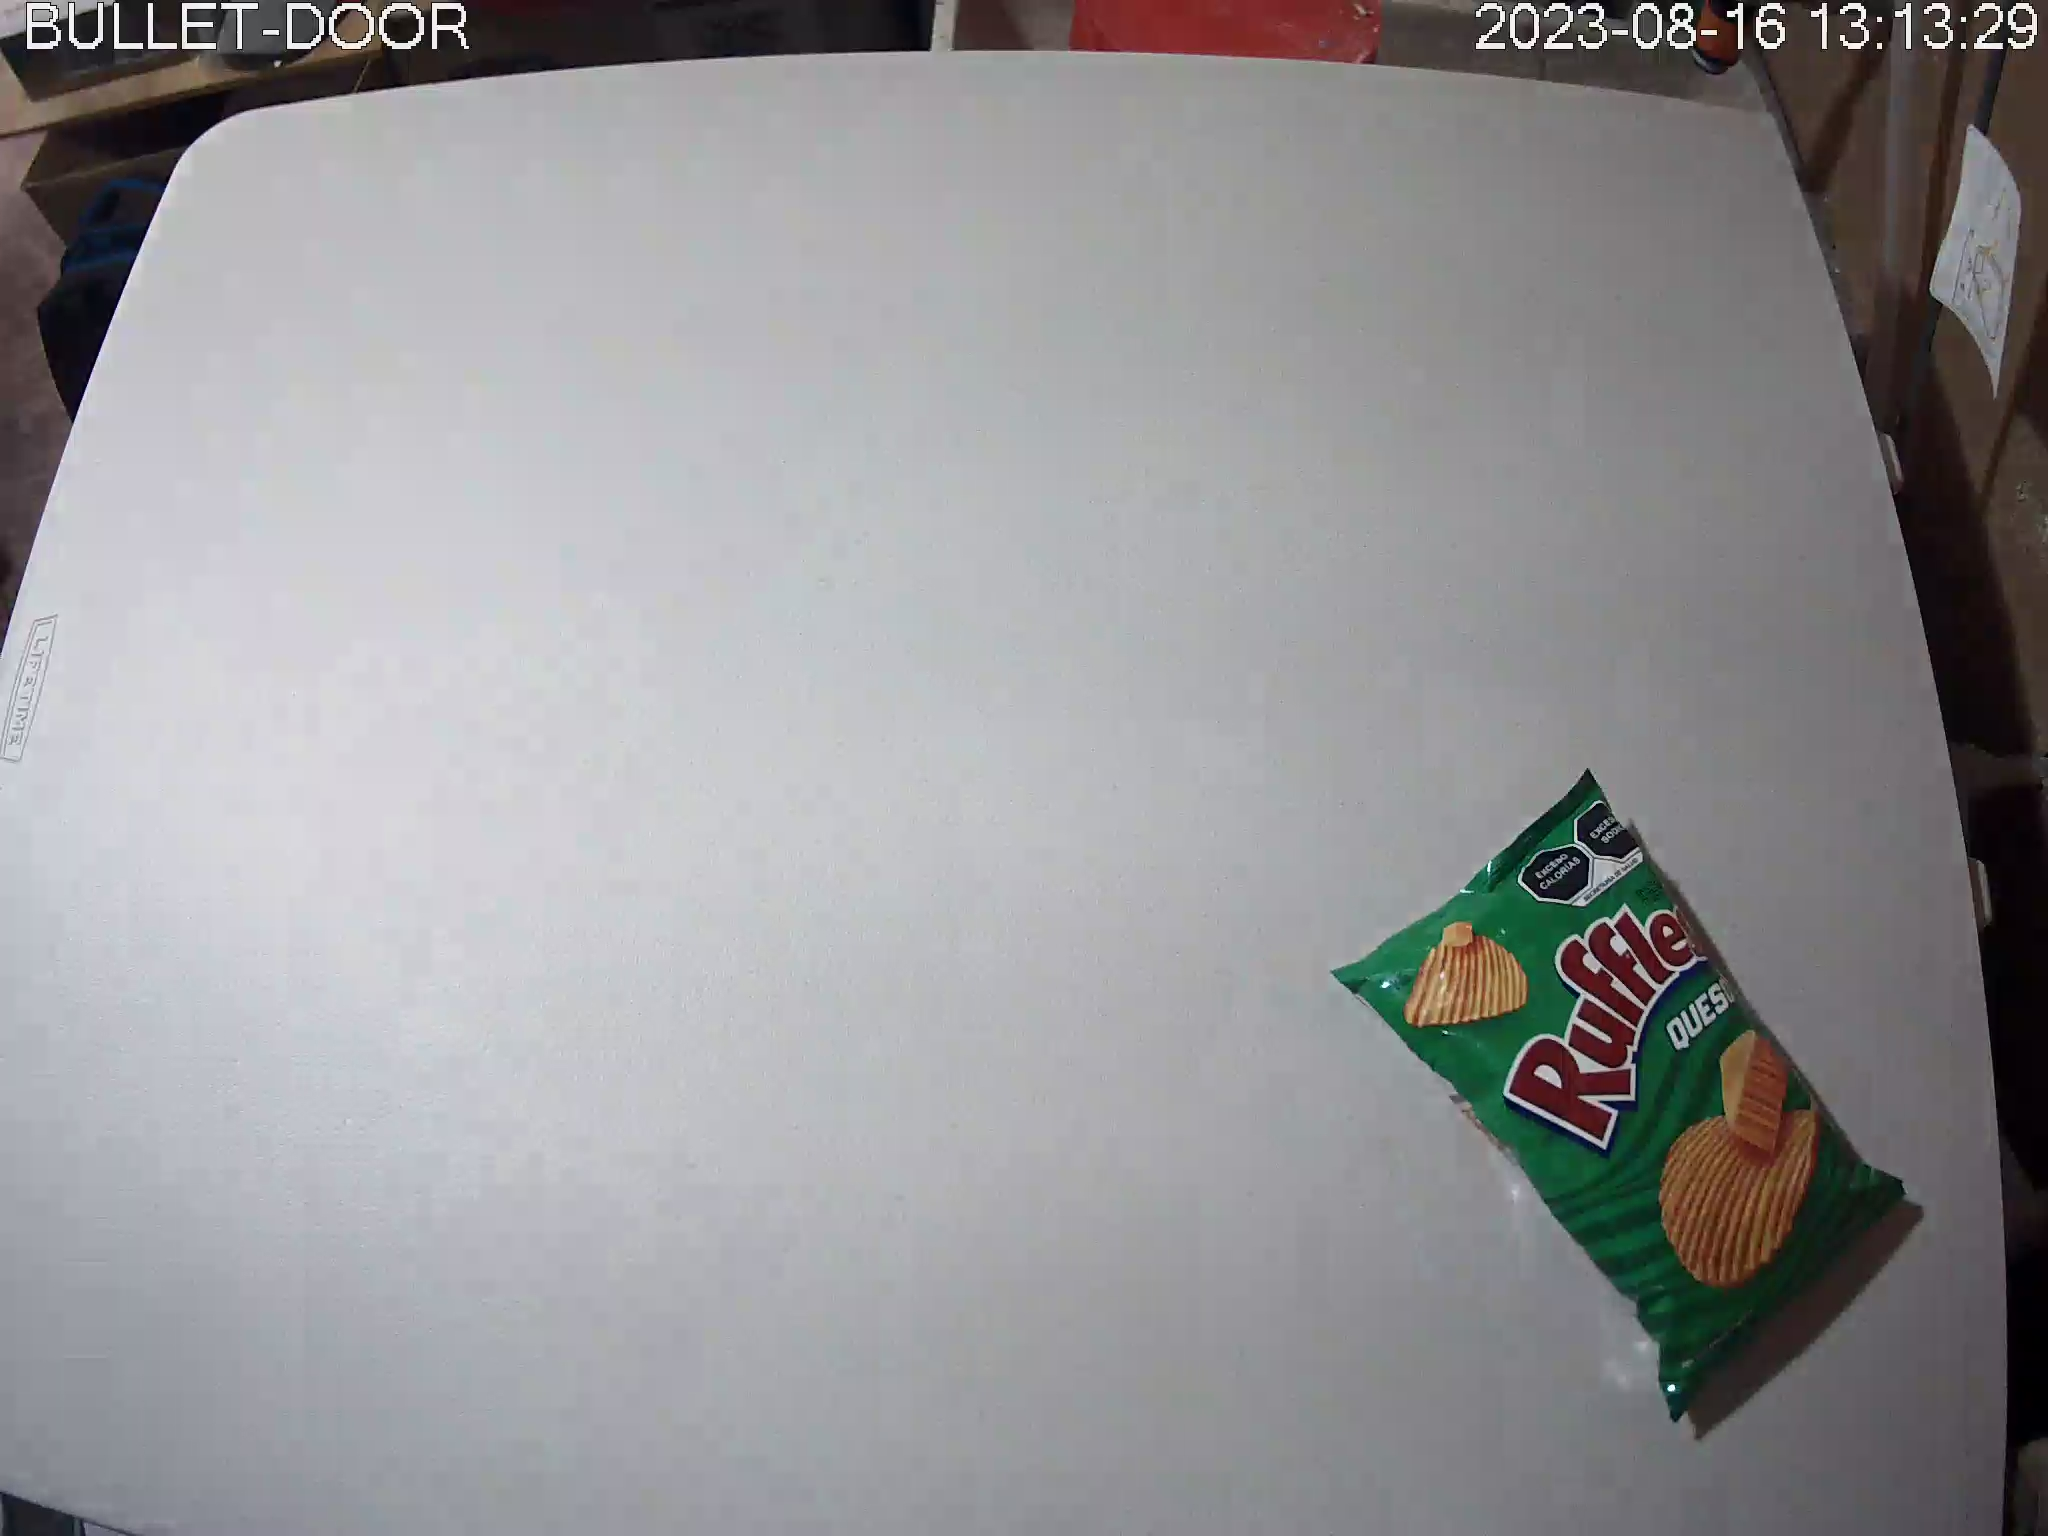RufflesQ_48_F: (1330, 766, 1909, 1426)
